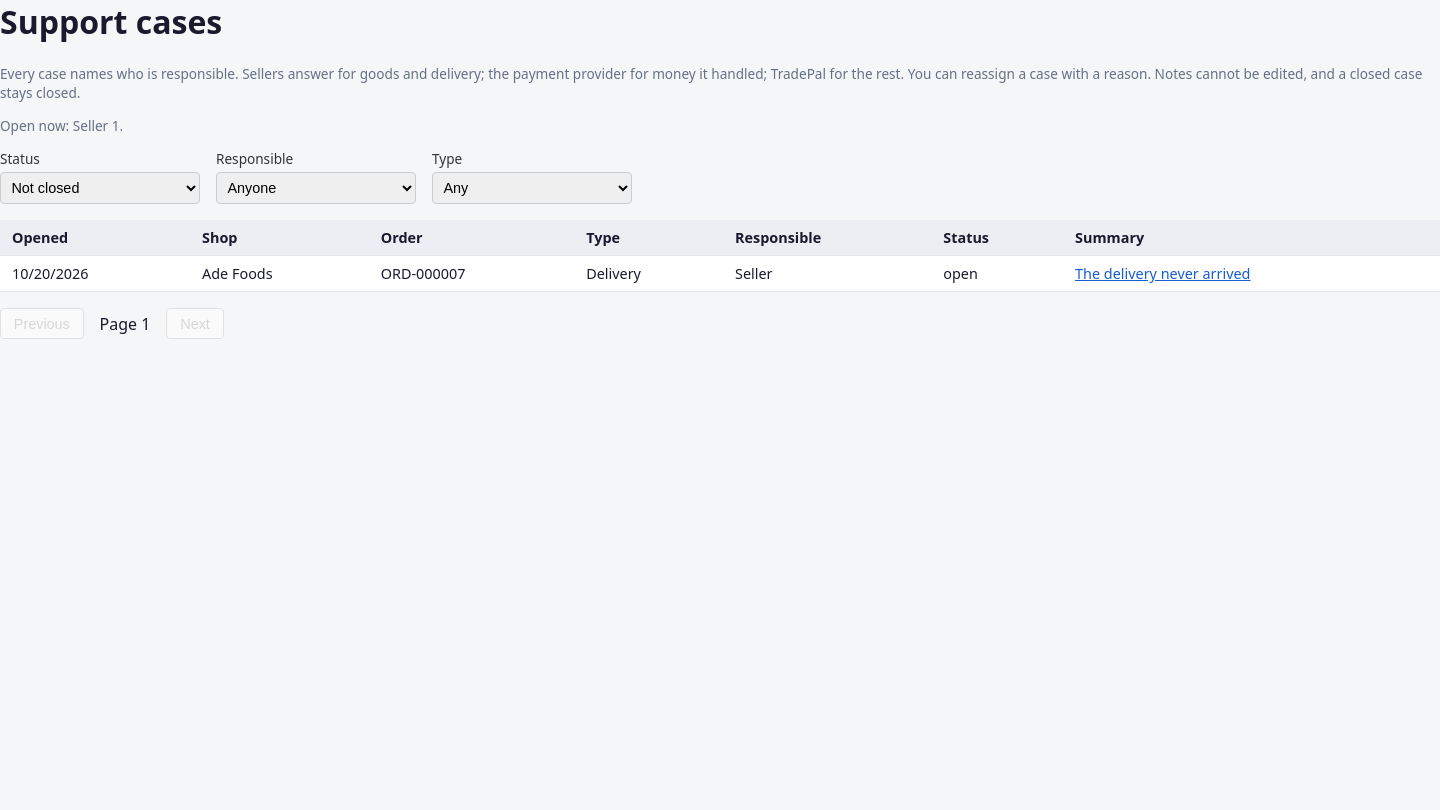
Scenario: SupportCasesPage › will not close without a real resolution, and offers no actions on a closed case
Click the button "The delivery never arrived" at (1163,274), box [1075,264,1250,283]
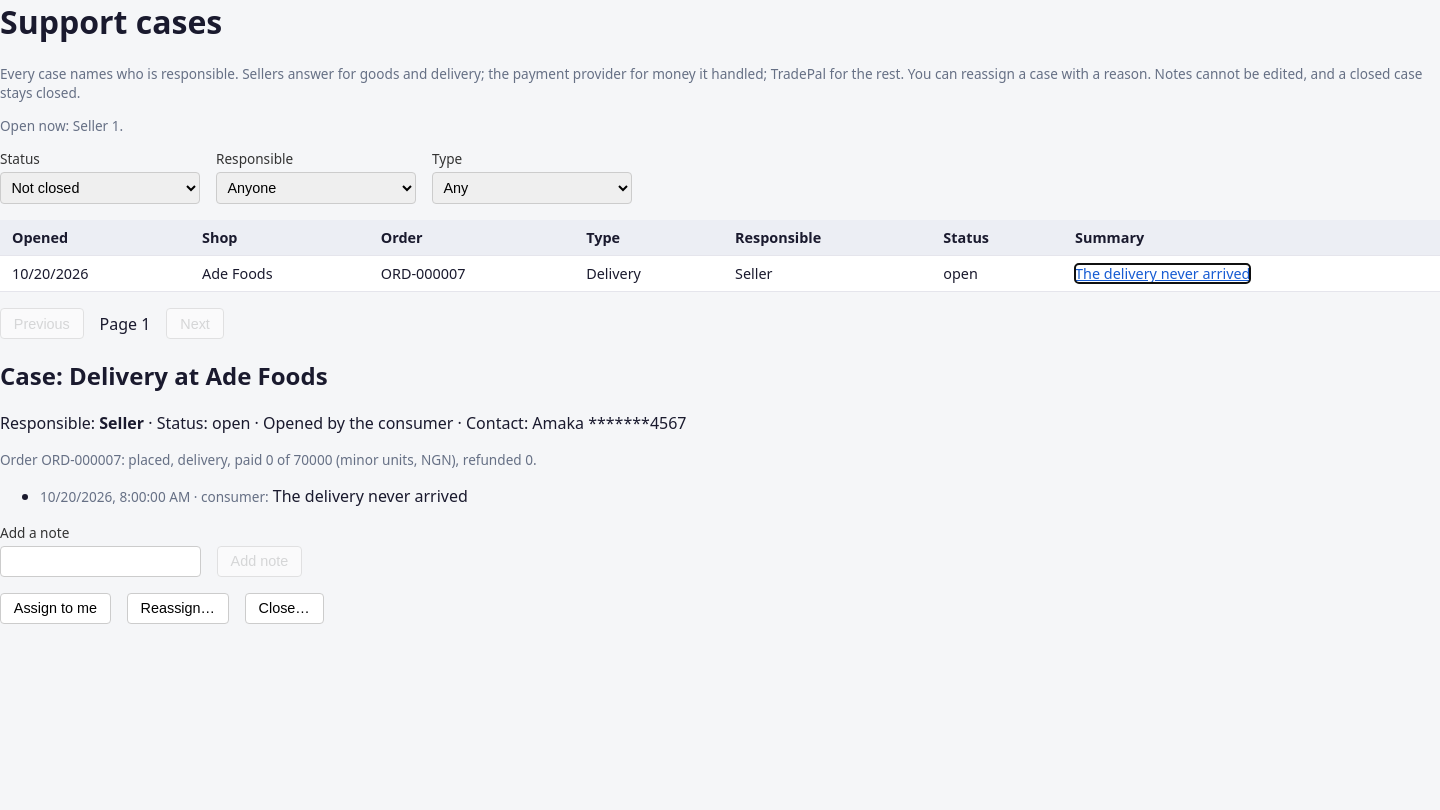
Click the button "Close…" at (284,608), box [245,593,324,624]
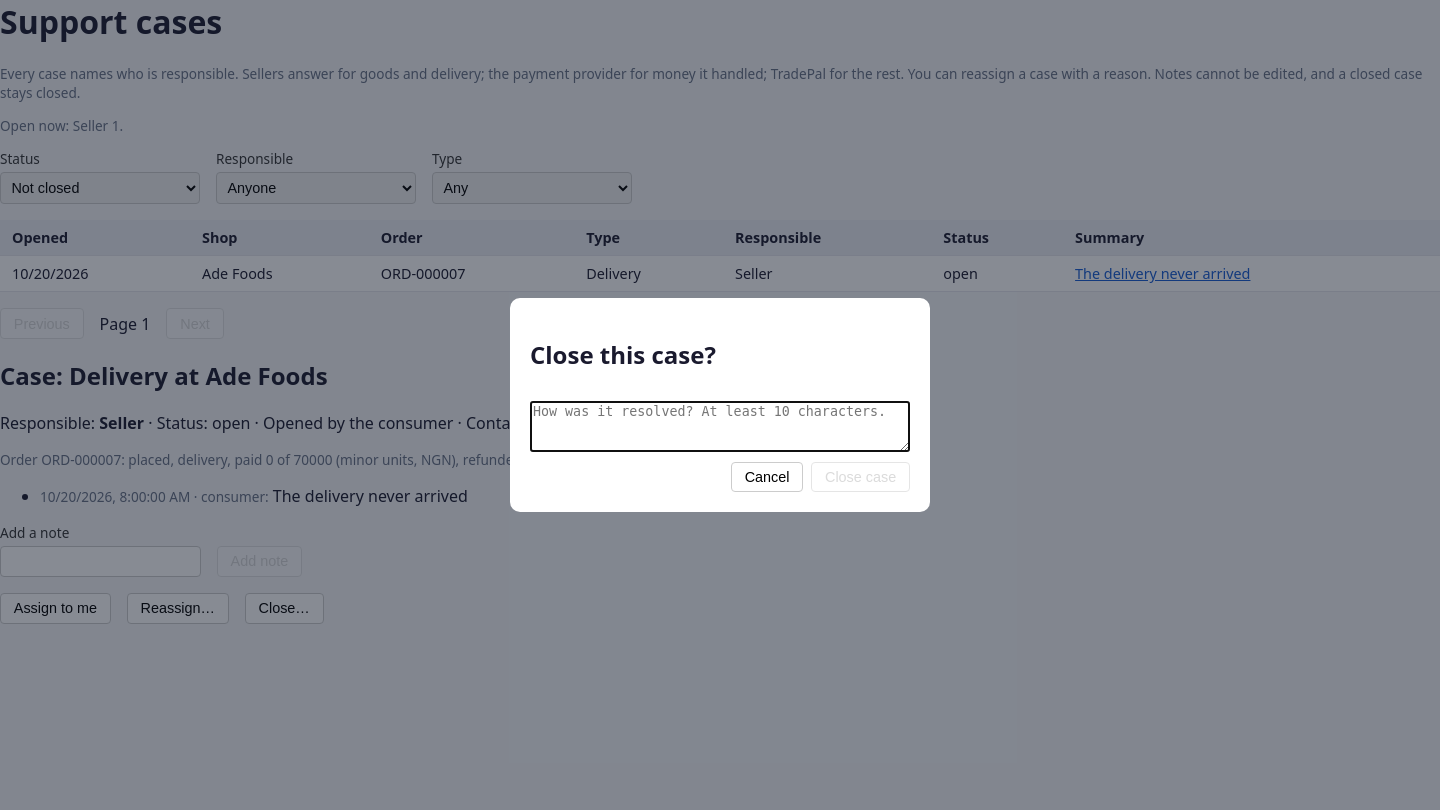
Result: the button "Close case" is disabled at [811,462,910,492]
Type "Seller redelivered on Tuesday" into the text box named "Resolution" at (720,426), box [530,400,910,452]
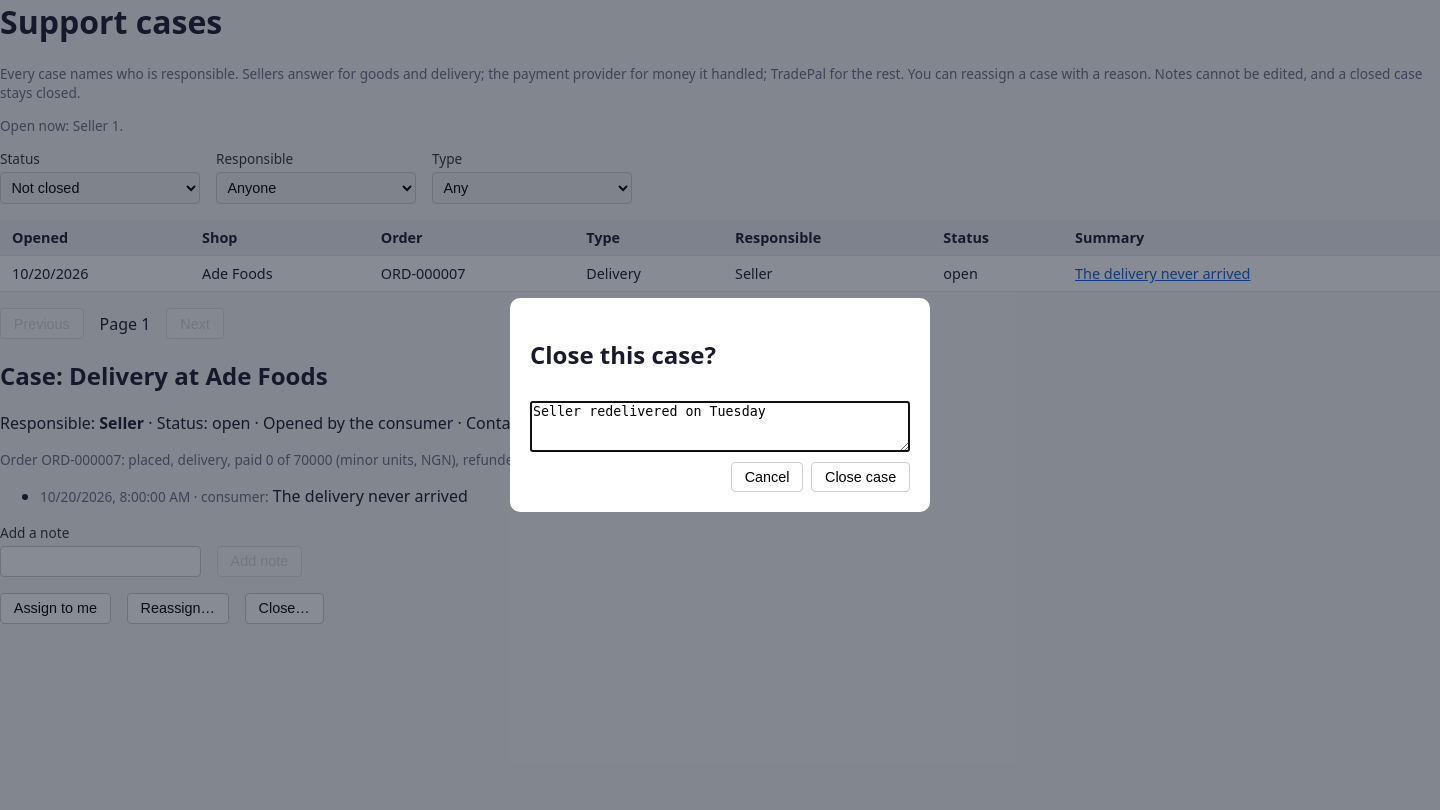
Result: the button "Close case" is enabled at [811,462,910,492]
